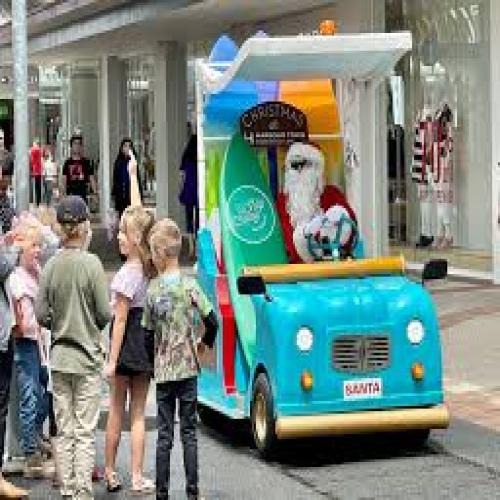Santa: (273, 134, 358, 266)
